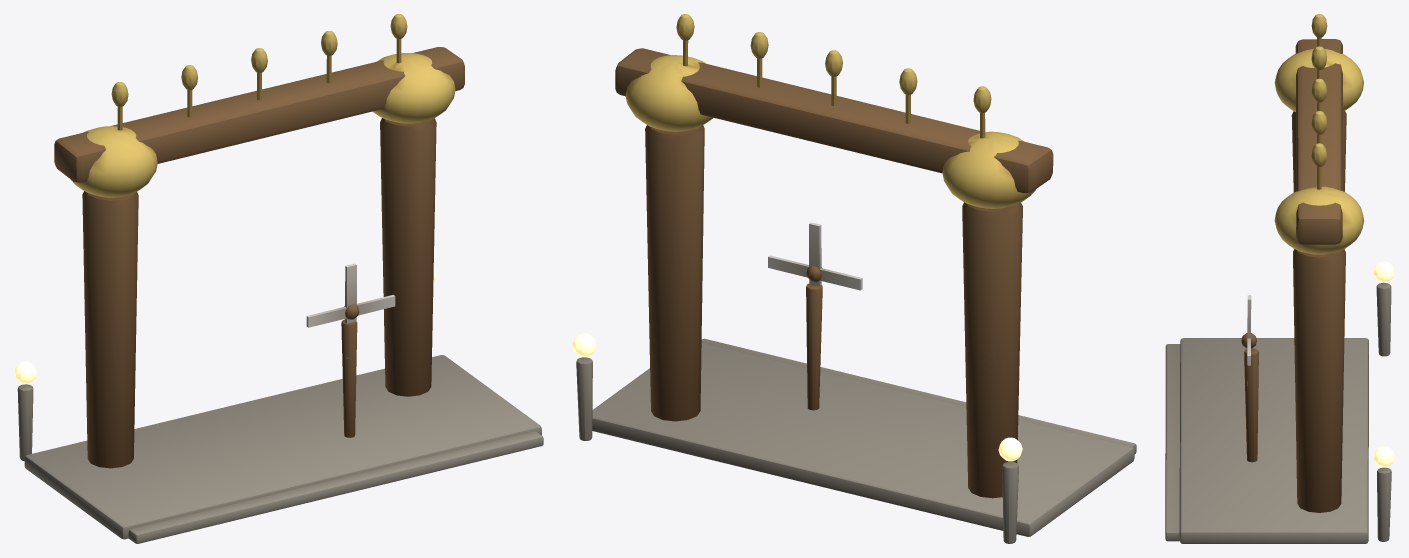
3 views of the same model, side by side, from view 1: azimuth 30°, elevation 25°; view 2: azimuth 150°, elevation 25°; view 3: azimuth 270°, elevation 25° (orthographic). The views are drawn at different scales.
Visible parts, largest first — view 1: gate_f1e745d0; view 2: gate_f1e745d0; view 3: gate_f1e745d0.
Boxes of the visible parts, x1,y1,x2,y2 form: gate_f1e745d0: (14, 14, 543, 543); gate_f1e745d0: (572, 14, 1136, 543); gate_f1e745d0: (1165, 14, 1394, 543).
Size of the model in its own units: 5.12 by 4.53 by 2.55.
